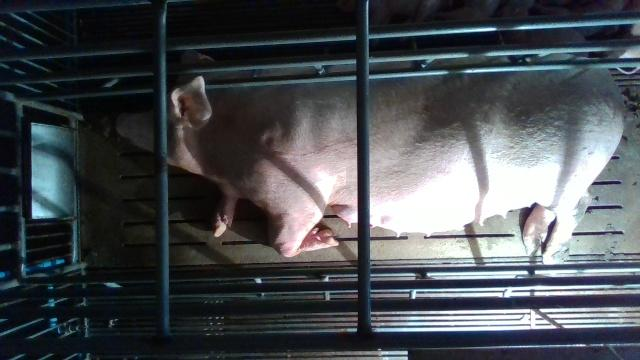piglet: (495, 0, 592, 55), (332, 0, 443, 42), (532, 0, 627, 36), (428, 0, 499, 22)
sow-sleep-lactate: (118, 55, 623, 258)
